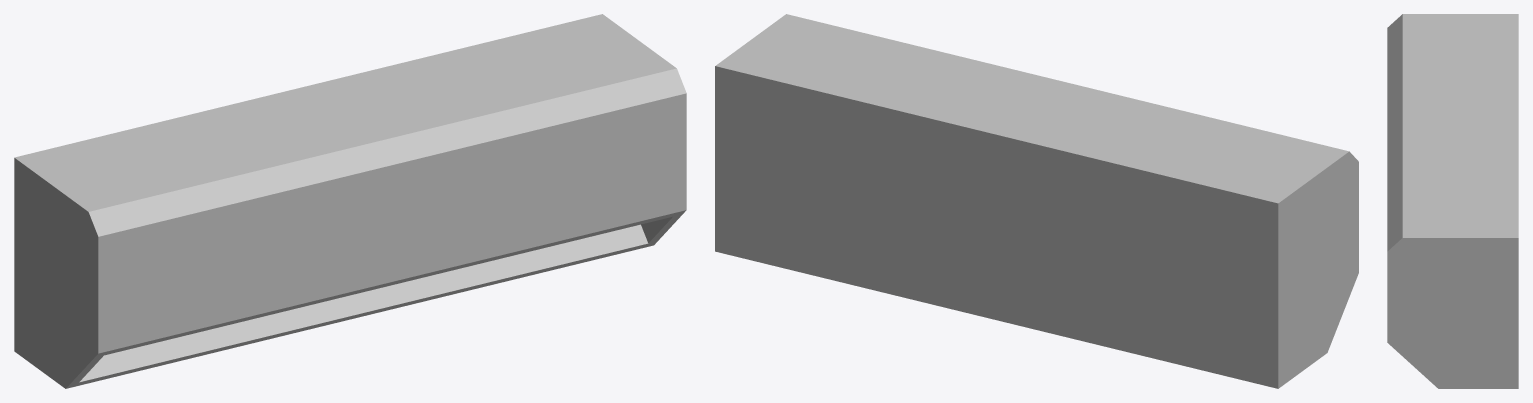
The model's file is Itr_Airconditioner3_Body_01.FBX.
The picture shows the model from 3 angles, left to right: view 1: azimuth 30°, elevation 25°; view 2: azimuth 150°, elevation 25°; view 3: azimuth 270°, elevation 25°; orthographic projection. The views are drawn at different scales.
Visible parts, largest first — view 1: Itr_Airconditioner3_Body_01; view 2: Itr_Airconditioner3_Body_01; view 3: Itr_Airconditioner3_Body_01.
Part boxes in pixels (box(x1,y1,x2,y2)): Itr_Airconditioner3_Body_01: box(14, 14, 686, 388); Itr_Airconditioner3_Body_01: box(715, 14, 1358, 388); Itr_Airconditioner3_Body_01: box(1387, 14, 1518, 388).
Bounding box in the file's own units: 53.24 × 16.76 × 13.19.
